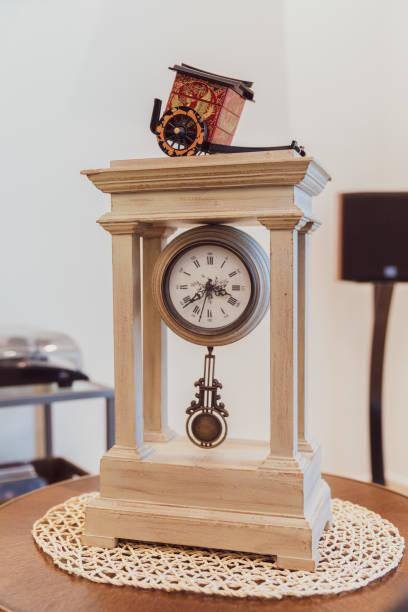clock: (147, 227, 265, 363)
table: (0, 474, 408, 612), (0, 361, 121, 482)
